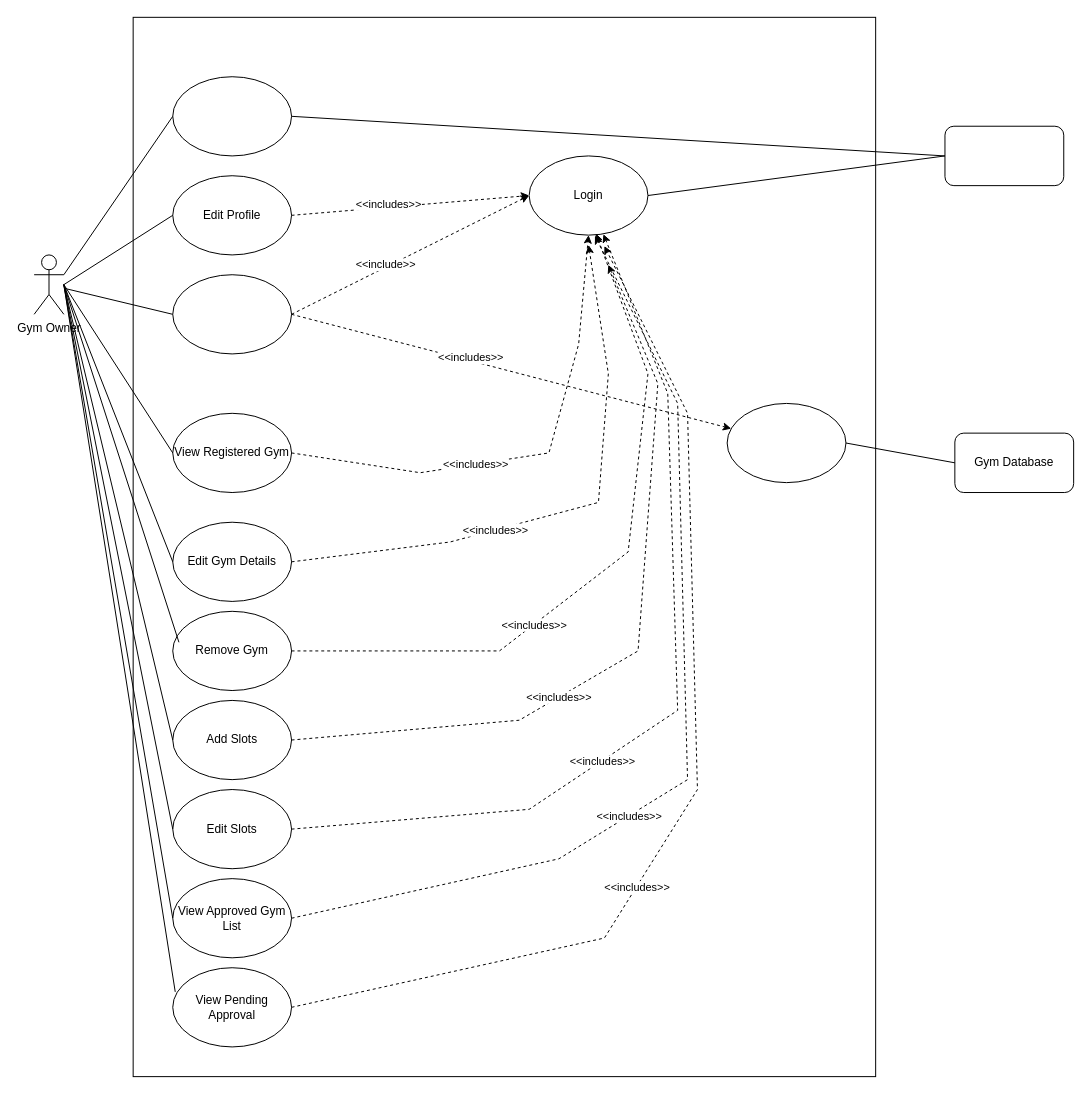
The diagram is 1091 pixels wide and 1094 high, and some of its shapes have lost their labels. Each missing label, with the centre of its shape:
Register: the point at 232,116
Register Gym: the point at 232,314
Send Approval Request: the point at 786,442
User Credential Database: the point at 1004,155
